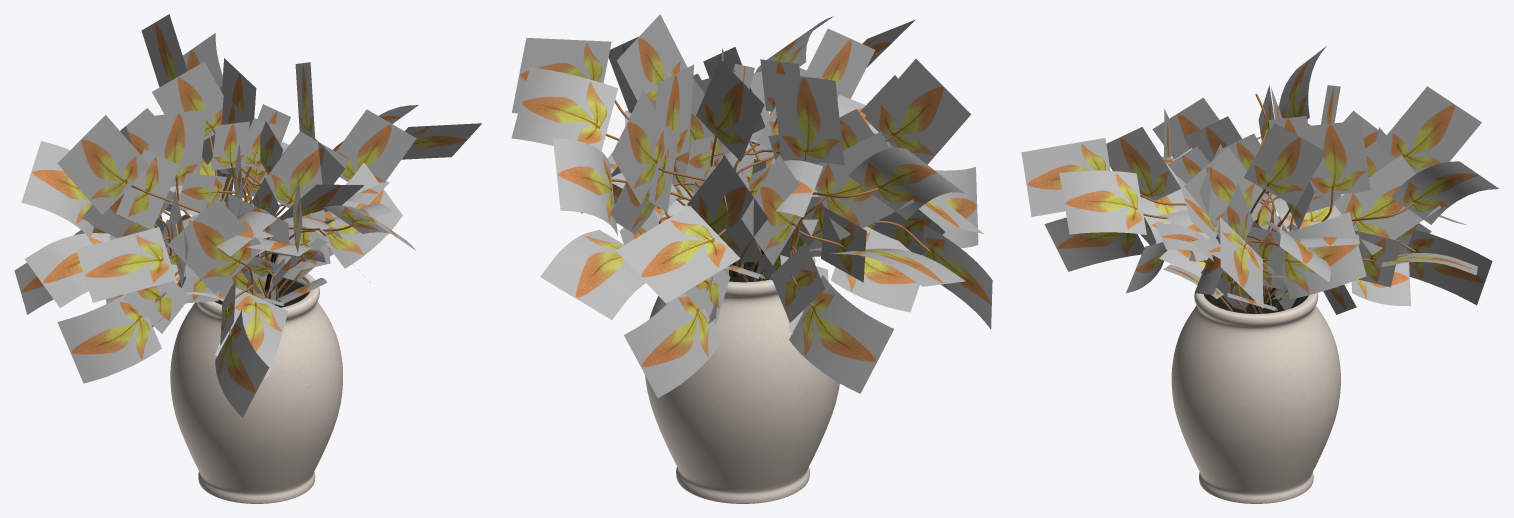
The model's file is Plant_002.fbx.
3 renders of one model, left to right at view 1: azimuth 30°, elevation 25°; view 2: azimuth 150°, elevation 25°; view 3: azimuth 270°, elevation 25°, orthographic. The views are drawn at different scales.
Parts seen in each view (by area): view 1: Plant.008; view 2: Plant.008; view 3: Plant.008.
Part boxes in pixels (box(x1,y1,x2,y2)): Plant.008: box(14, 14, 481, 503); Plant.008: box(511, 14, 992, 503); Plant.008: box(1021, 46, 1498, 503).
Size of the model in its own units: 39.14 by 35.56 by 39.15.
